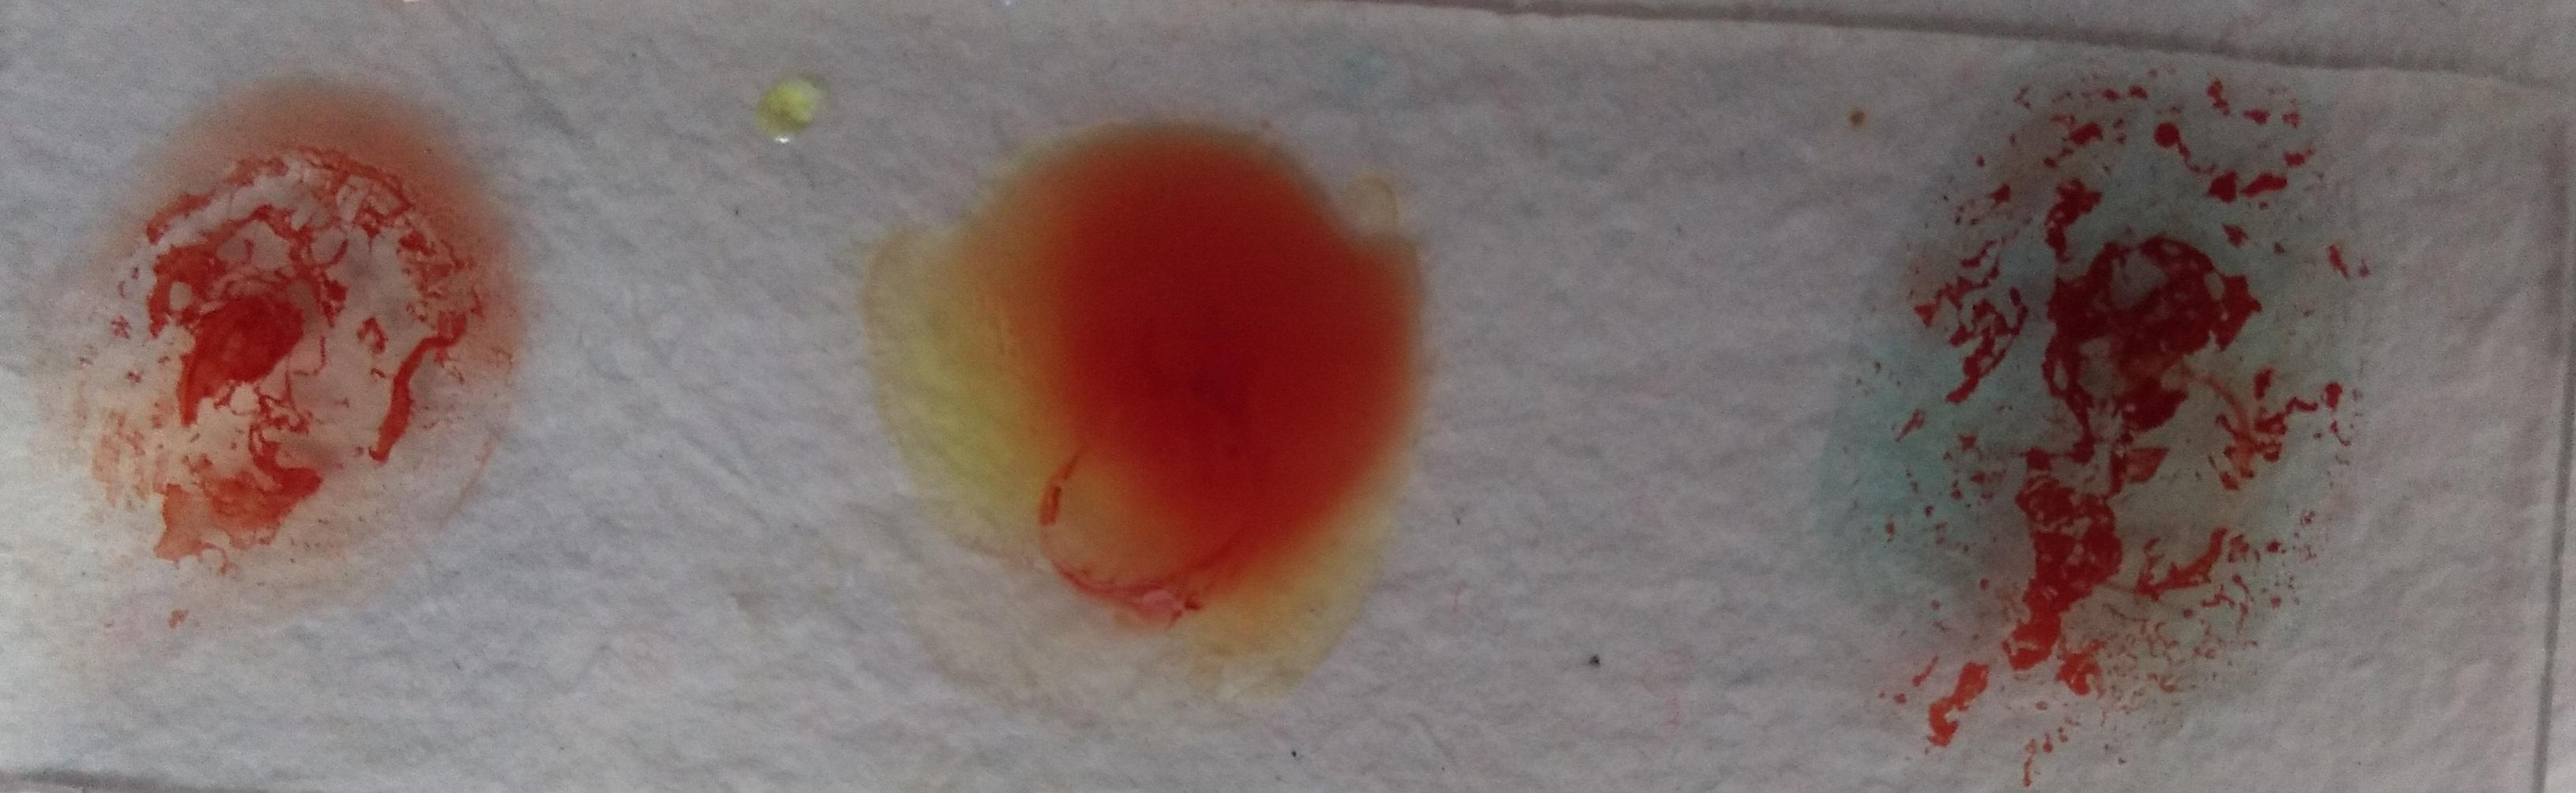A: (1832, 38, 2400, 730)
D: (61, 59, 524, 617)
